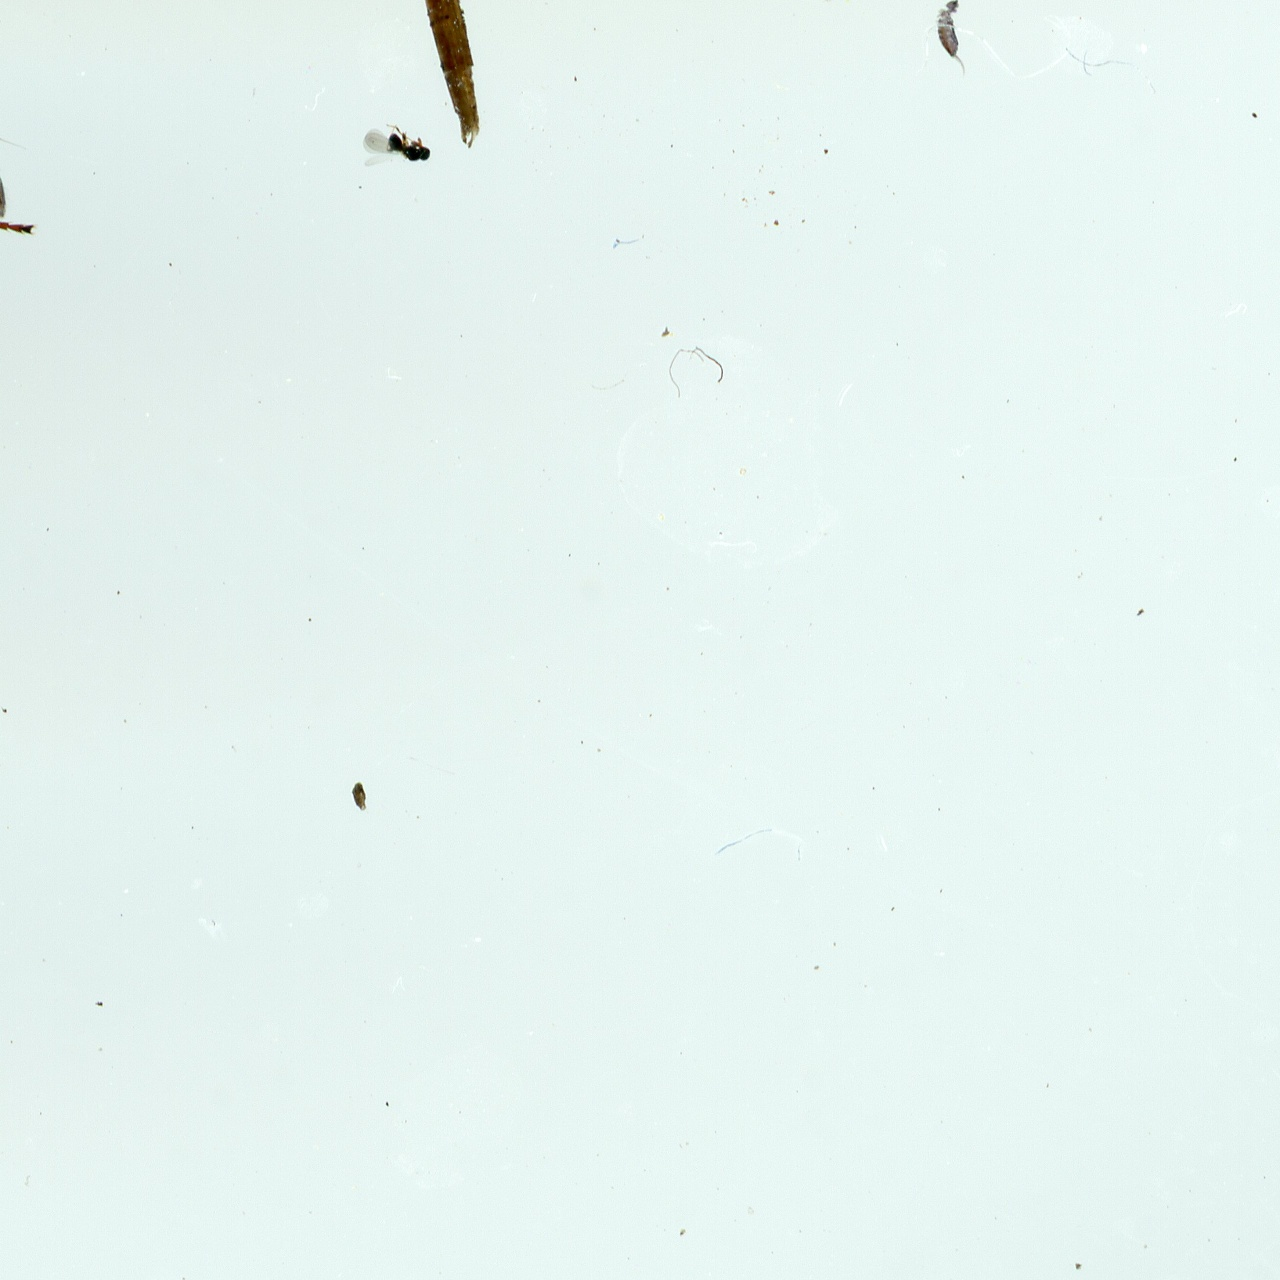arthropod: (0, 0, 103, 512), (354, 120, 443, 188), (922, 0, 986, 84), (0, 52, 33, 176)
